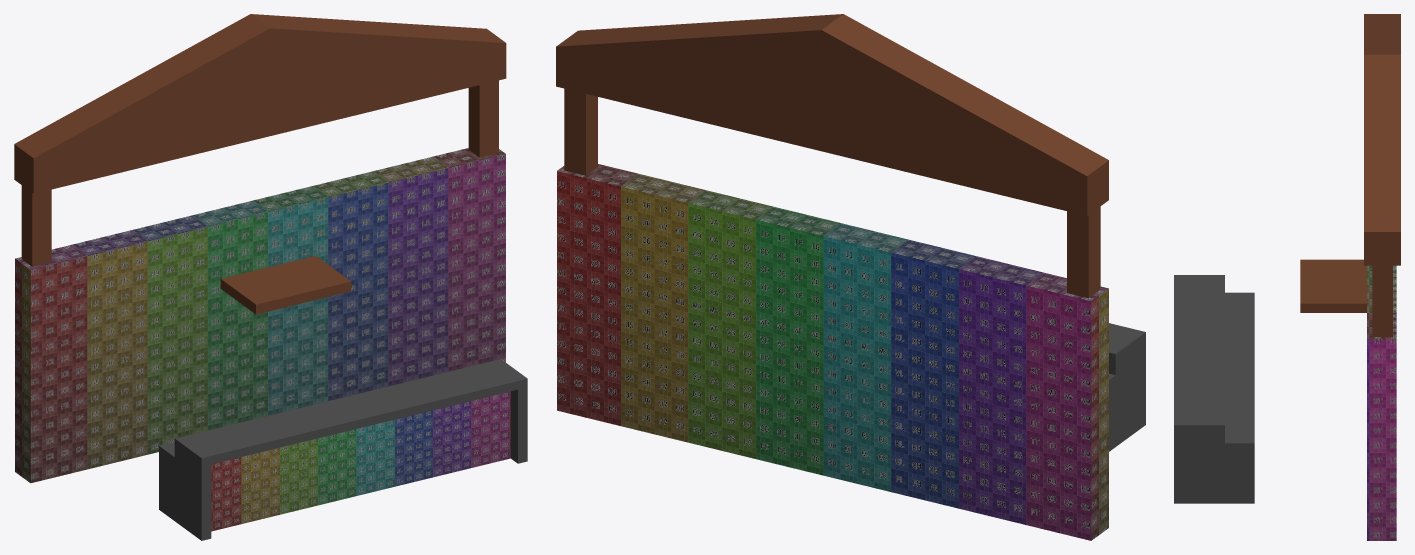
The model's file is Vertical-Wall-Bar.glb.
3 renders of one model, left to right at view 1: azimuth 30°, elevation 25°; view 2: azimuth 150°, elevation 25°; view 3: azimuth 270°, elevation 25°, orthographic. The views are drawn at different scales.
Visible parts, largest first — view 1: main_change, Vertical_wall_bar; view 2: main_change, Vertical_wall_bar; view 3: Vertical_wall_bar, main_change.
Boxes of the visible parts, bbox=[...] form: main_change: bbox=[15, 148, 510, 531]; Vertical_wall_bar: bbox=[14, 14, 527, 540]; main_change: bbox=[557, 164, 1108, 540]; Vertical_wall_bar: bbox=[556, 14, 1145, 451]; Vertical_wall_bar: bbox=[1174, 14, 1400, 503]; main_change: bbox=[1367, 265, 1396, 540].
Size of the model in its own units: 7 by 5.6 by 3.06.
3 materials, 1 textured.
